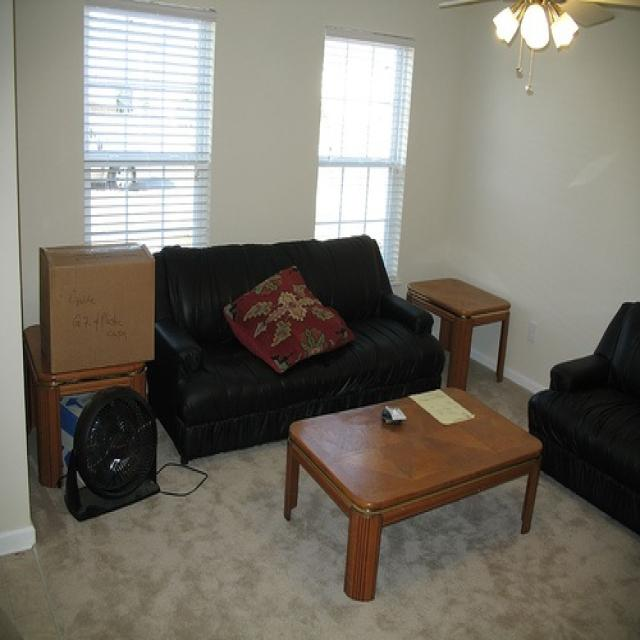sofa: (154, 227, 449, 466), (531, 297, 639, 534)
